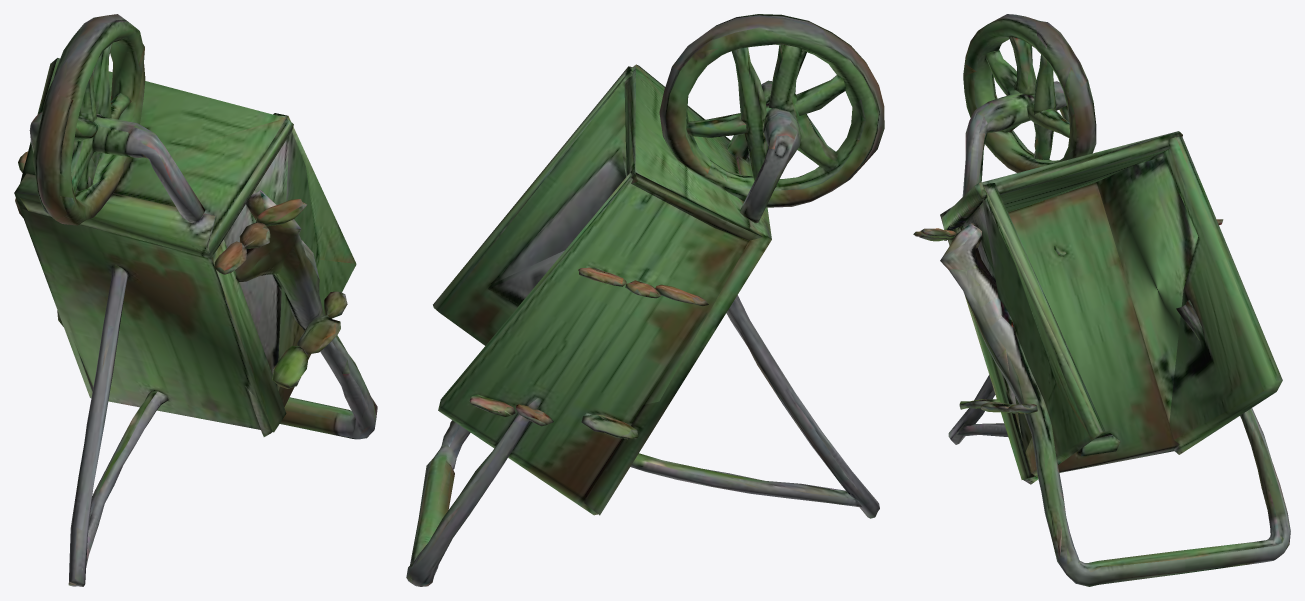
Rendered from jd_carrinho.glb.
The picture shows the model from 3 angles, left to right: view 1: azimuth 30°, elevation 25°; view 2: azimuth 150°, elevation 25°; view 3: azimuth 270°, elevation 25°; orthographic projection. The views are drawn at different scales.
Visible parts, largest first — view 1: mesh_node.016; view 2: mesh_node.016; view 3: mesh_node.016.
Part boxes in pixels (left/top/right/bottom): mesh_node.016: left=14, top=14, right=377, bottom=586; mesh_node.016: left=406, top=14, right=884, bottom=586; mesh_node.016: left=913, top=14, right=1290, bottom=586.
Bounding box in the file's own units: 0.3105 × 0.3984 × 0.3022.
1 material, 1 textured.
